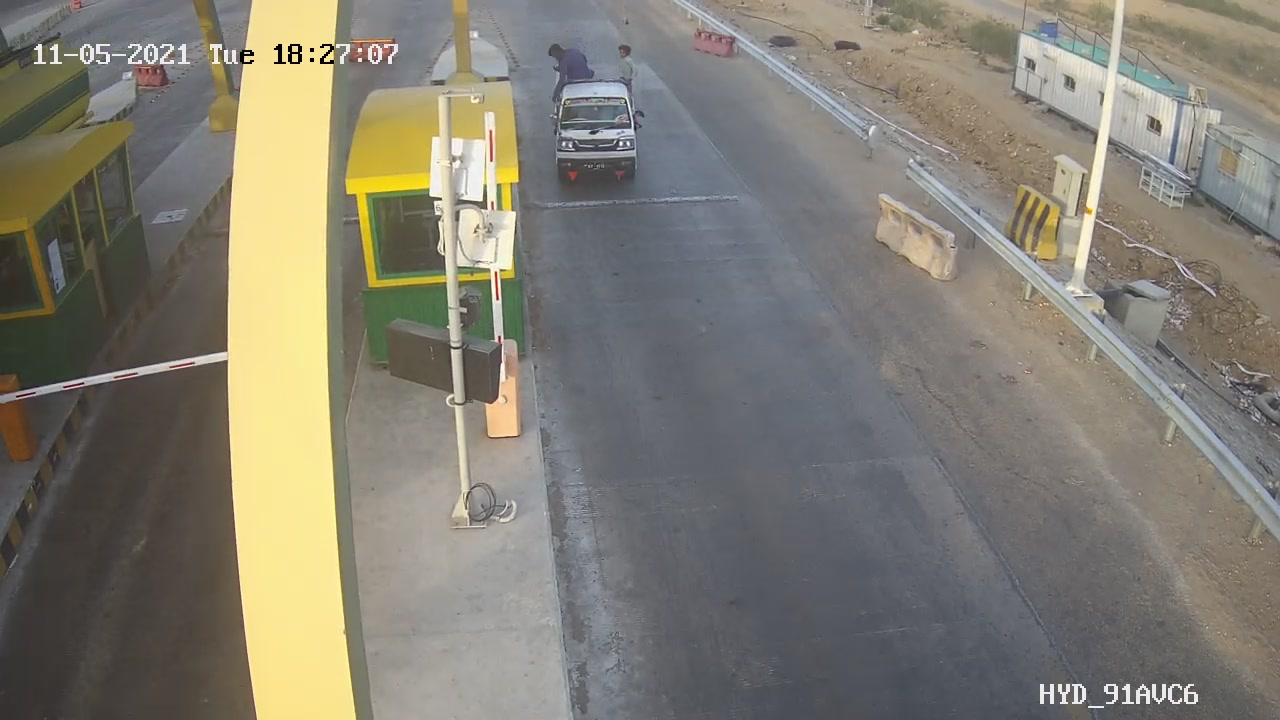F1: (536, 70, 654, 203)
